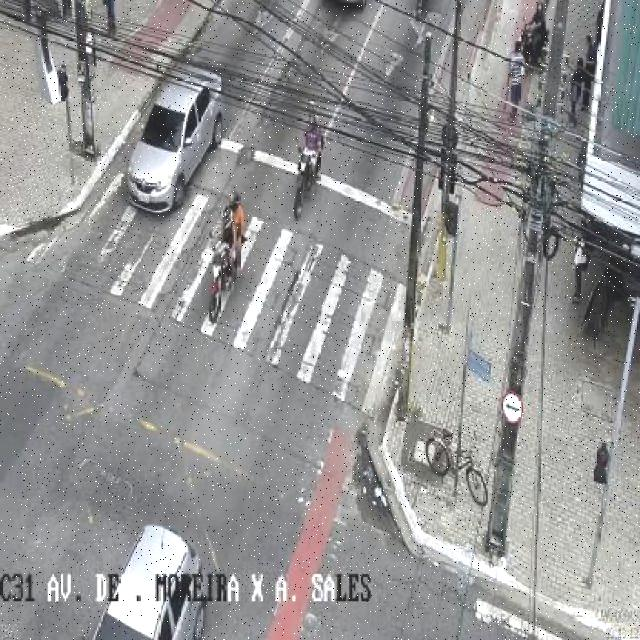Car: (128, 65, 223, 216), (91, 521, 209, 640)
Cycle: (424, 427, 491, 508), (207, 241, 240, 324), (290, 143, 323, 220)
